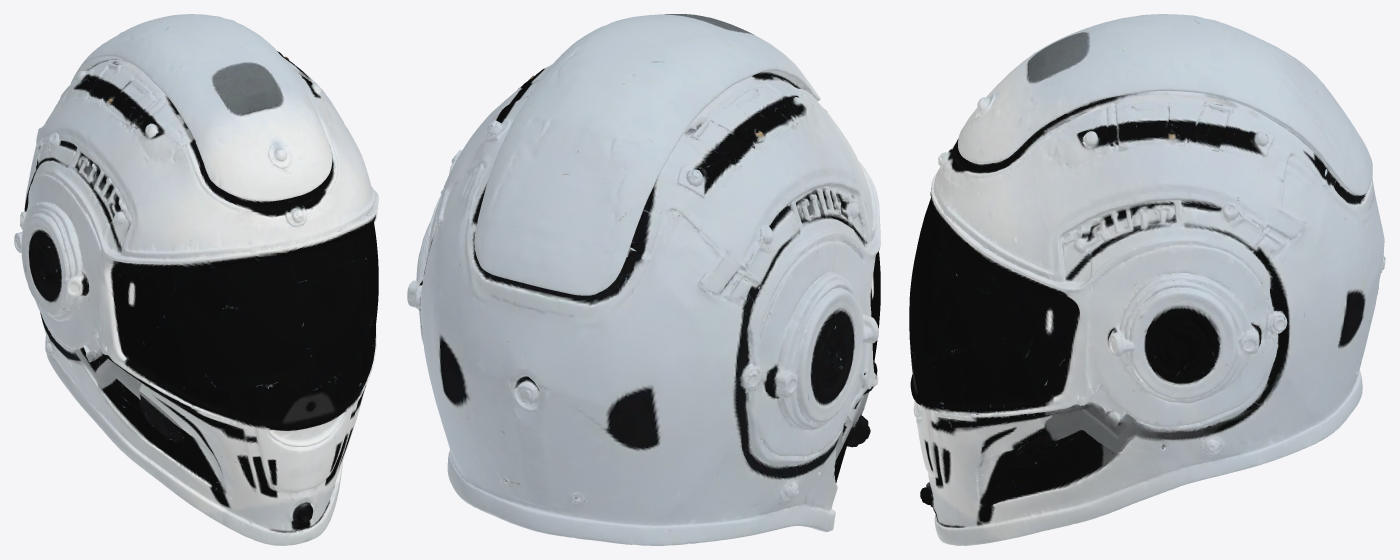
File: helmate.glb
3 renders of one model, left to right at view 1: azimuth 30°, elevation 25°; view 2: azimuth 150°, elevation 25°; view 3: azimuth 270°, elevation 25°, orthographic. The views are drawn at different scales.
Parts seen in each view (by area): view 1: Mesh_0.001; view 2: Mesh_0.001; view 3: Mesh_0.001.
Part boxes in pixels (x1=…): Mesh_0.001: x1=14, y1=14, x2=378, y2=545; Mesh_0.001: x1=407, y1=14, x2=880, y2=545; Mesh_0.001: x1=909, y1=14, x2=1385, y2=545.
Size of the model in its own units: 0.2821 by 0.3806 by 0.3278.
1 material, 1 textured.
